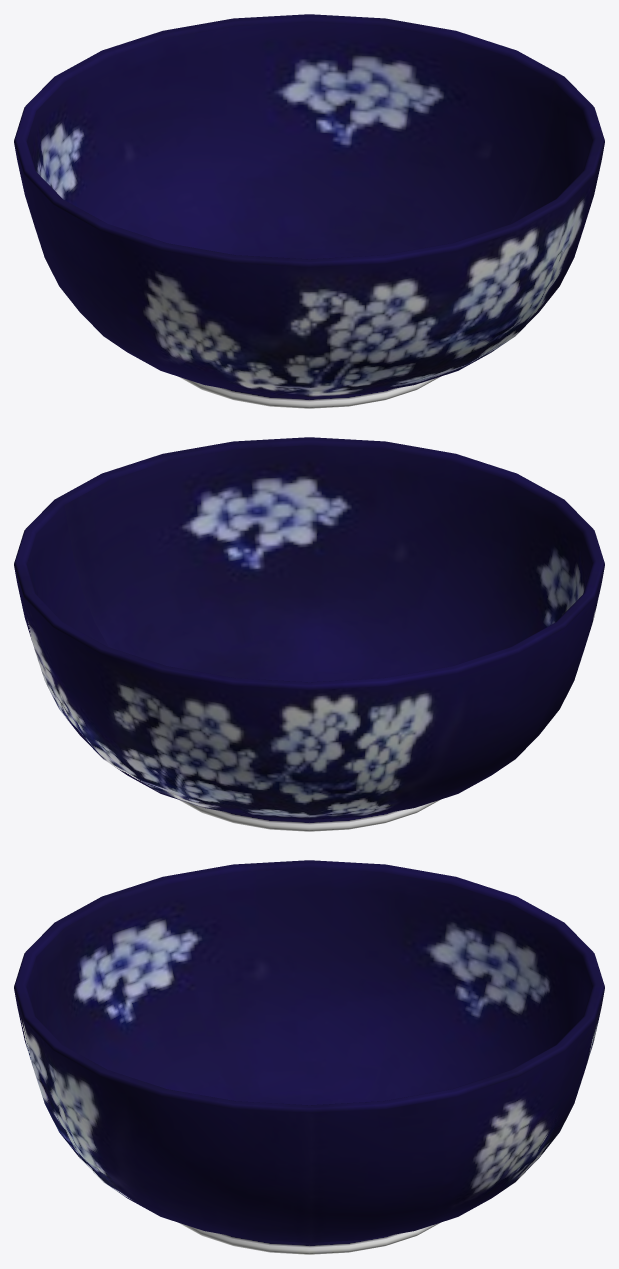
The model's file is buyuk-porselen-kase.glb.
3 views of the same model, one above another, from view 1: azimuth 30°, elevation 25°; view 2: azimuth 150°, elevation 25°; view 3: azimuth 270°, elevation 25° (orthographic).
Parts seen in each view (by area): view 1: Bowl.001; view 2: Bowl.001; view 3: Bowl.001.
Part boxes in pixels (bbox=[...]): Bowl.001: bbox=[14, 14, 604, 408]; Bowl.001: bbox=[14, 437, 604, 831]; Bowl.001: bbox=[14, 860, 604, 1254].
Size of the model in its own units: 0.3286 by 0.127 by 0.3286.
Materials: 1 (1 with a texture image).
